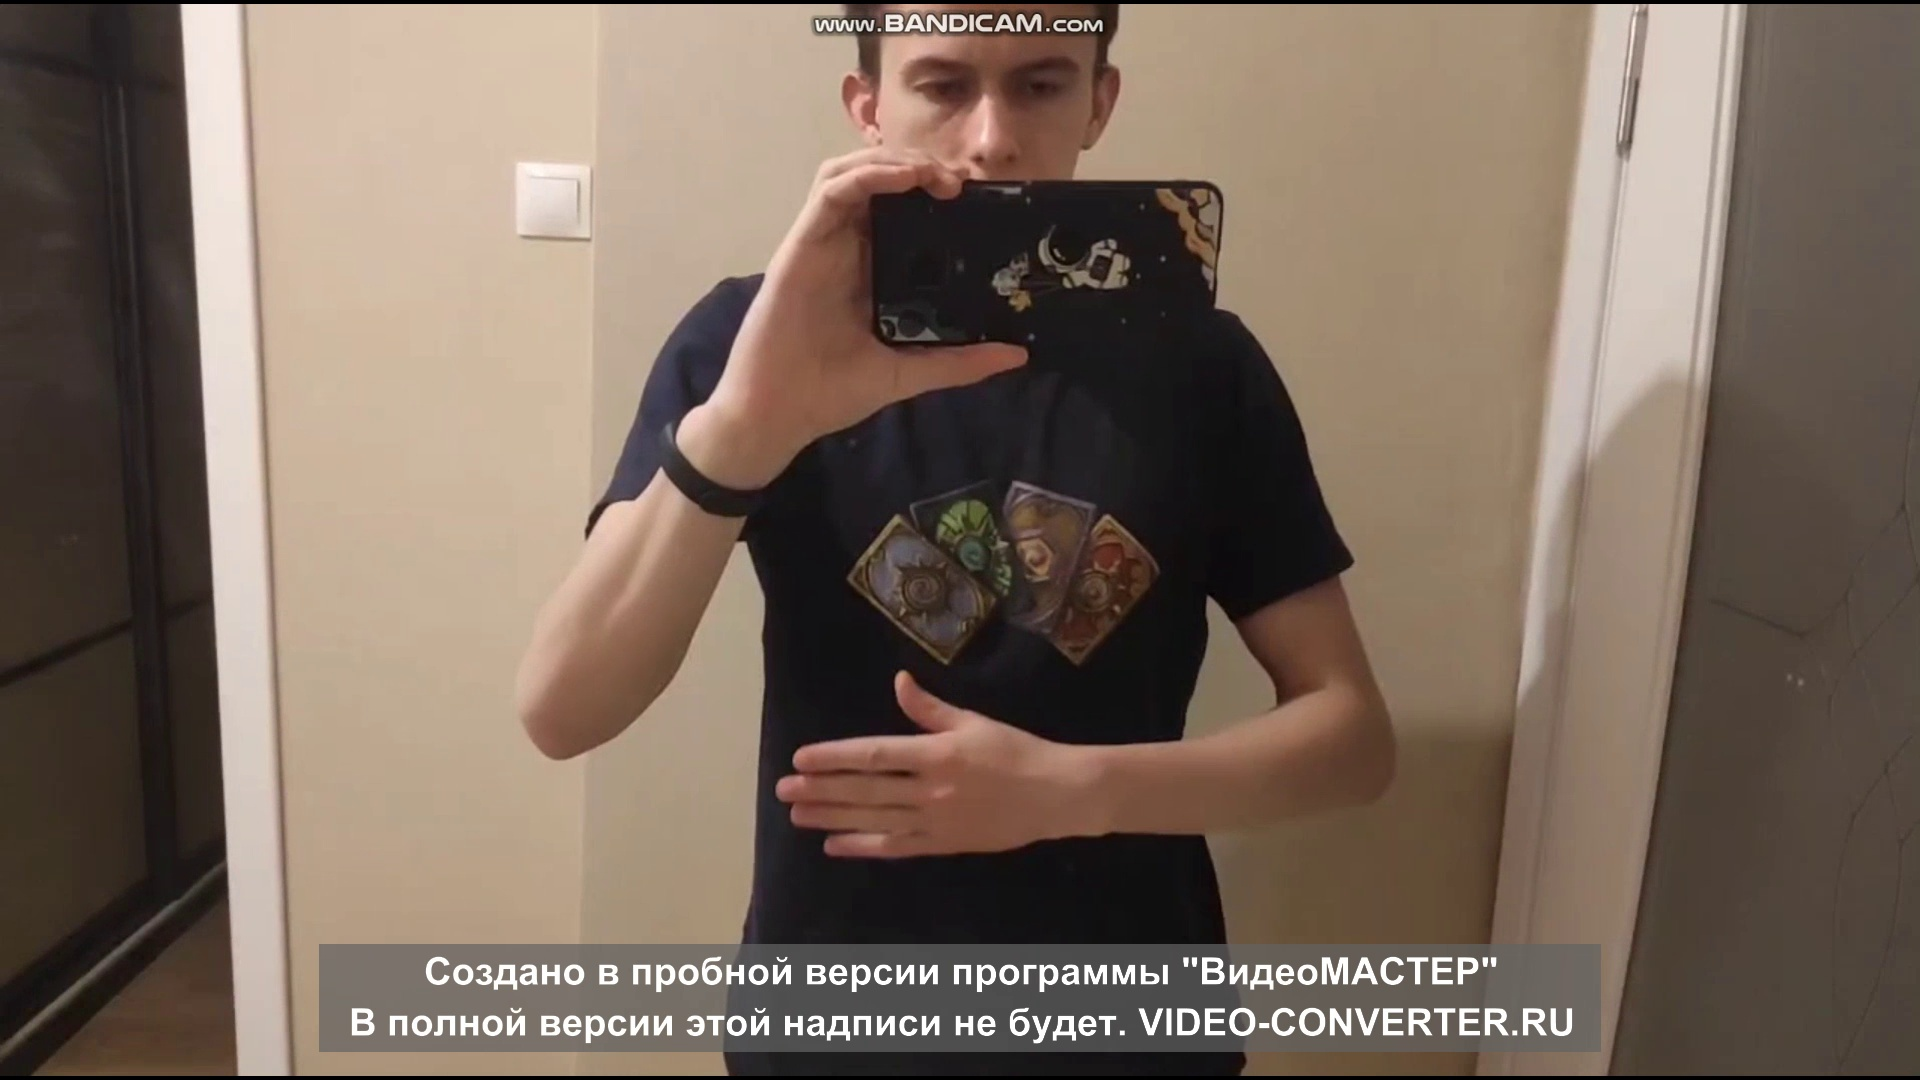Кисть: (777, 665, 1052, 861)
